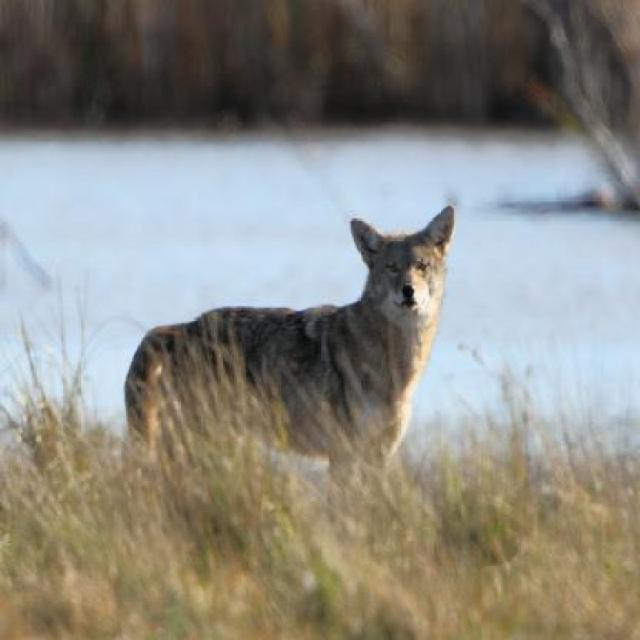Coyote: (123, 206, 454, 525)
